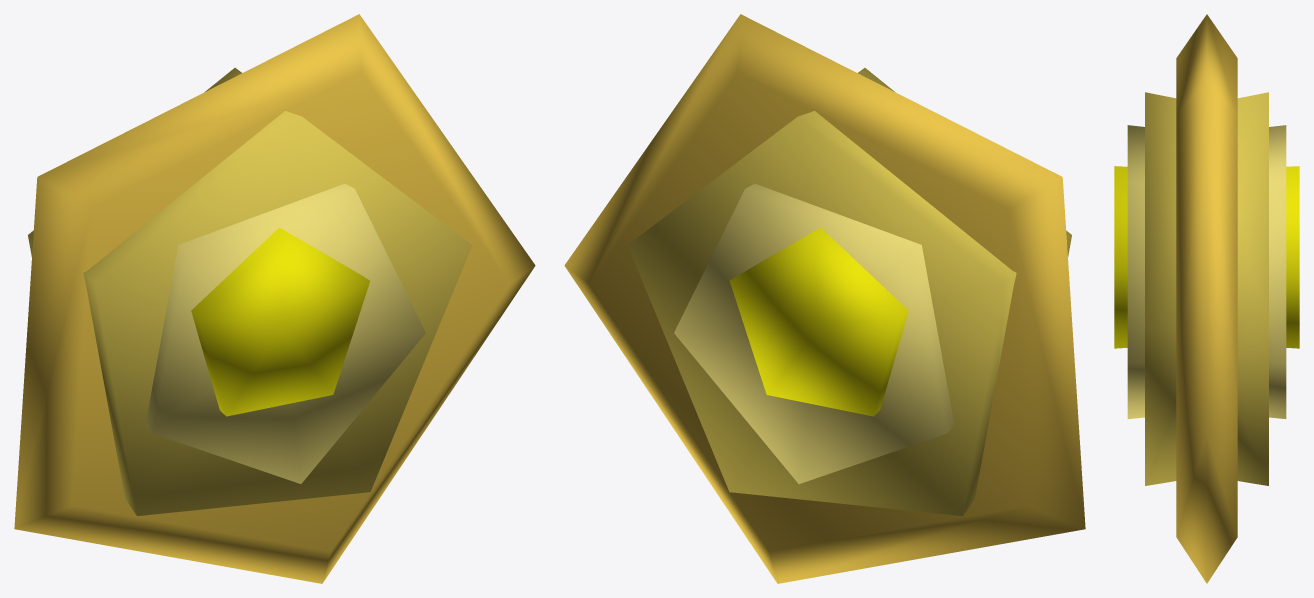
The model's file is sun.fbx.
3 views of the same model, side by side, from view 1: azimuth 30°, elevation 25°; view 2: azimuth 150°, elevation 25°; view 3: azimuth 270°, elevation 25° (orthographic). The views are drawn at different scales.
Parts seen in each view (by area): view 1: sun2; view 2: sun2; view 3: sun2.
Part boxes in pixels (box(x1,y1,x2,y2)): sun2: box(14, 14, 535, 583); sun2: box(564, 14, 1085, 583); sun2: box(1114, 14, 1299, 583).
Size of the model in its own units: 2.47 by 2.54 by 0.8199.
